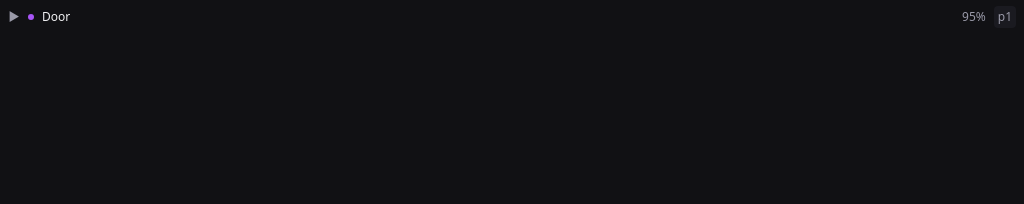
it: AnnotationListItem note-save freeze › L5 freeze: demo save performs zero network and leaves the shared annotation unchanged
Later steps or results of the test are not shown.
Click the button "▶".
click(14, 17)  # box [8,8,20,26]
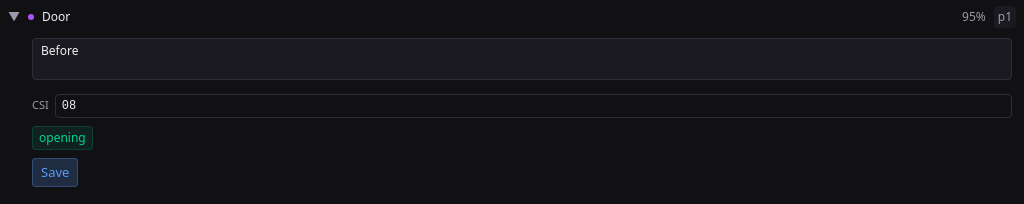
Replace the text in the text box with placeholder "Add notes..." with "Demo-local edit" at (522,59), box [32,38,1012,80]
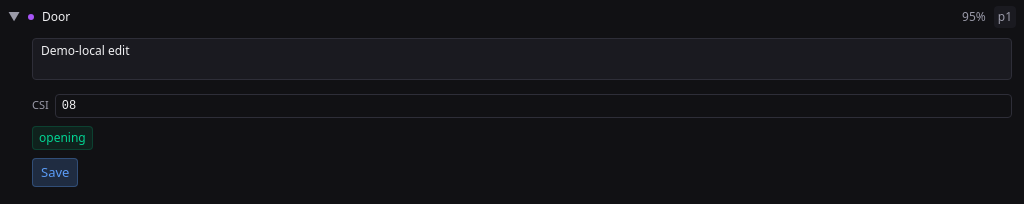
Click the button "Save".
click(55, 172)  # box [32,158,78,187]
Expected: the button "Save" is enabled, [32,158,78,187]
